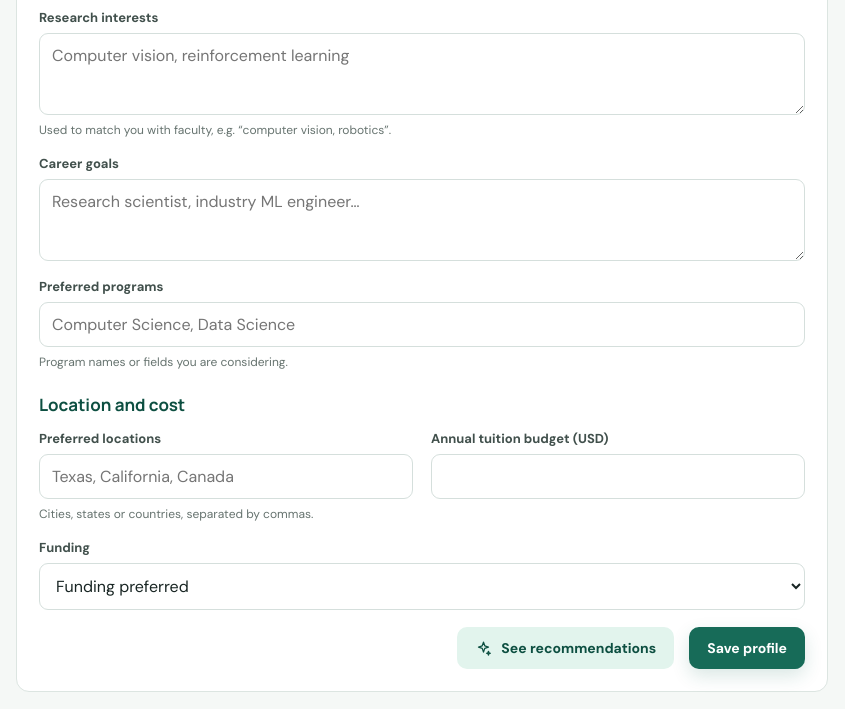
Test: ProfilePage › sends a valid funding_requirement choice and nulls for empty numbers
(page scrolled)
Select "I need funding to attend" in the dropdown labelled "Funding": (422, 587) [39,563,805,610]
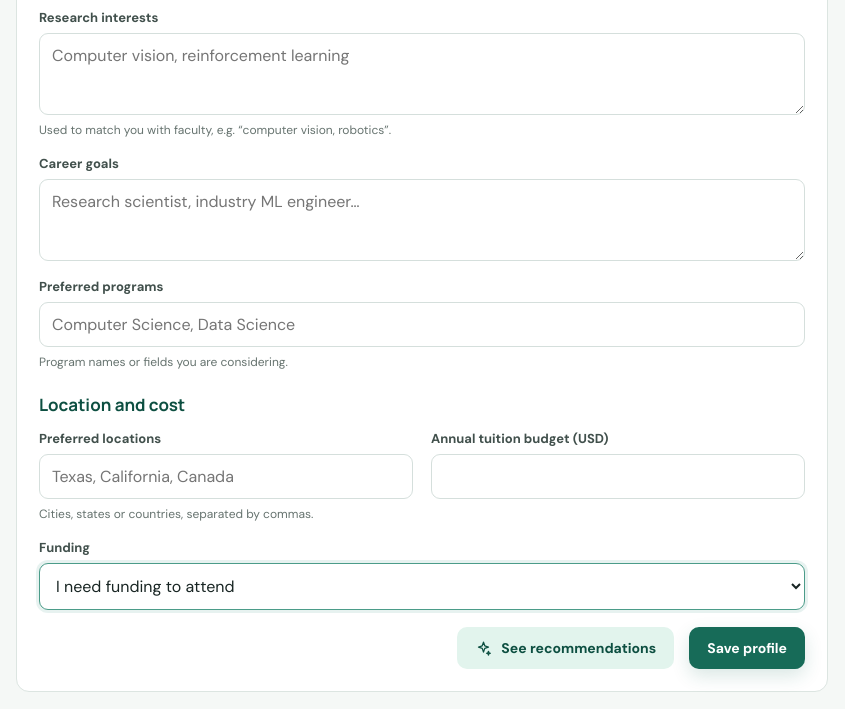
In the text box labelled "Research interests": (422, 74) [39,33,805,115], type "computer vision"
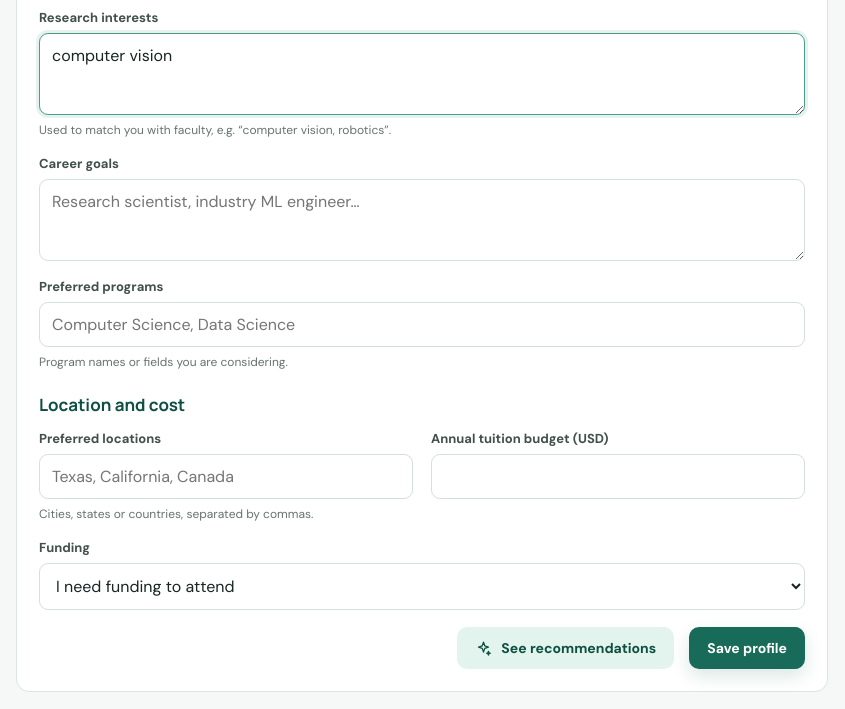
Click the button "Save profile": (747, 648) [689,627,805,669]
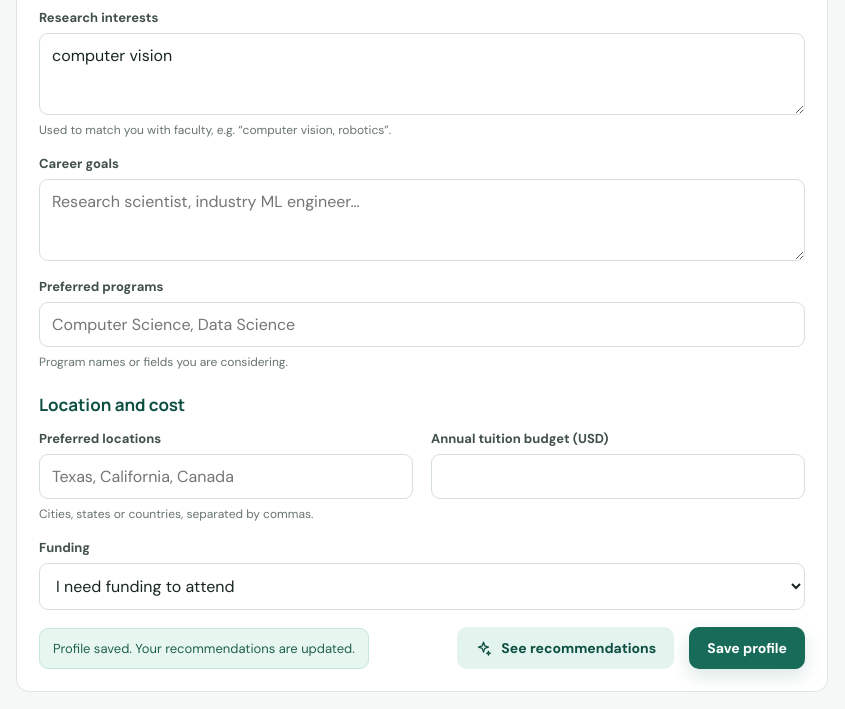
expect the text "Profile saved. Your recommendations are updated." is shown: met, box [39,628,369,669]
